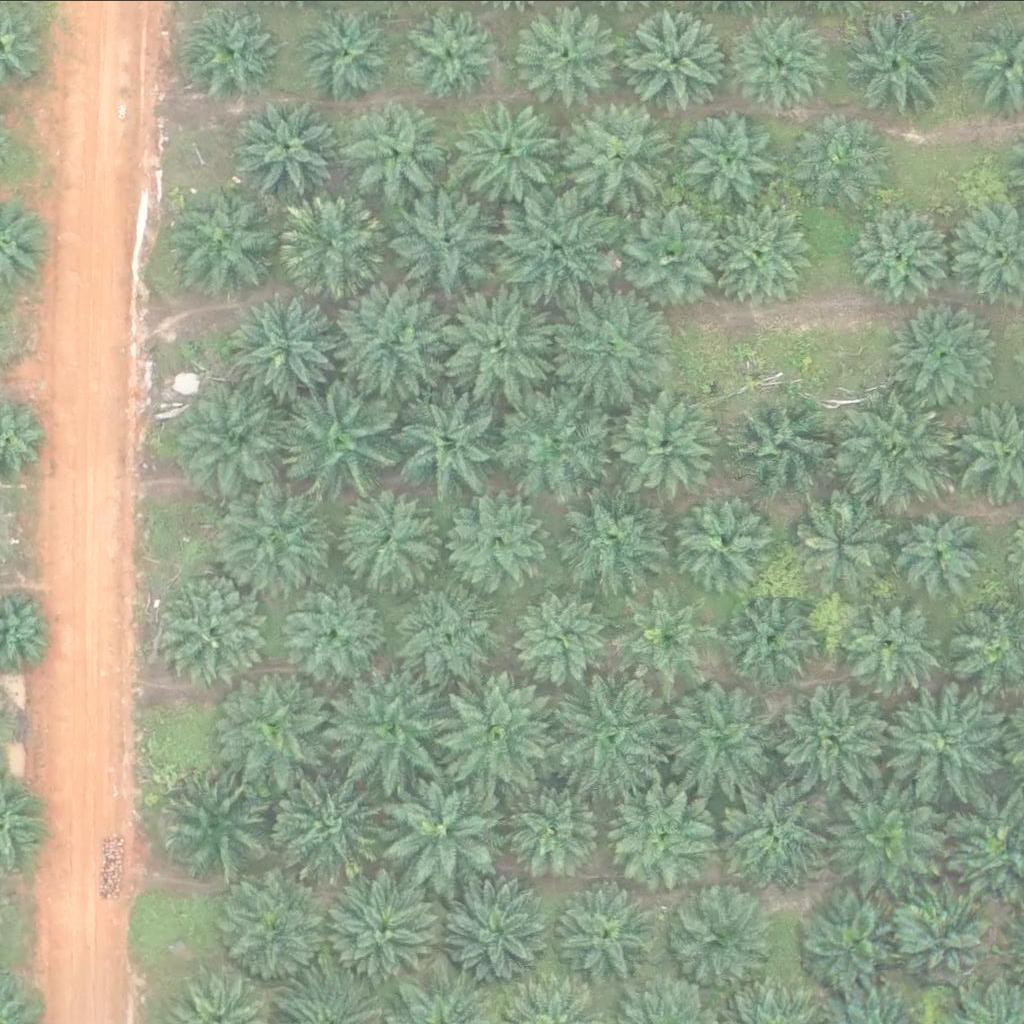Kelapa_Sawit: (887, 297, 1001, 410), (165, 184, 279, 297), (229, 286, 343, 399), (438, 286, 552, 399), (498, 387, 612, 500), (439, 670, 553, 783), (383, 773, 497, 886), (556, 101, 669, 214), (493, 192, 606, 305), (279, 188, 392, 301), (343, 290, 456, 403), (557, 293, 670, 406), (280, 380, 393, 493), (554, 482, 667, 595), (850, 390, 963, 503), (161, 573, 274, 686), (222, 675, 335, 788), (898, 690, 1011, 803), (830, 783, 943, 896), (714, 776, 827, 889), (603, 784, 716, 897), (218, 872, 331, 985), (322, 871, 435, 984), (554, 878, 667, 991), (662, 883, 775, 996), (796, 886, 909, 999), (345, 100, 459, 212), (389, 186, 503, 298), (218, 477, 332, 589), (668, 676, 782, 788), (618, 381, 731, 493), (393, 387, 506, 499), (181, 383, 294, 495), (721, 393, 834, 505), (389, 583, 502, 695), (337, 673, 450, 785), (557, 677, 670, 789), (774, 680, 887, 792), (158, 764, 271, 876), (269, 771, 382, 883), (447, 878, 560, 990), (845, 9, 946, 109), (731, 15, 832, 115), (624, 8, 725, 108), (183, 2, 284, 102), (241, 99, 342, 199), (461, 101, 562, 201), (790, 109, 891, 209), (855, 199, 956, 299), (618, 204, 719, 304), (334, 487, 435, 587), (680, 487, 781, 587), (791, 491, 892, 591), (715, 584, 816, 684), (507, 590, 608, 690), (275, 585, 376, 685), (893, 883, 994, 983), (518, 1, 618, 101), (402, 4, 502, 104), (297, 1, 397, 101), (681, 108, 781, 208), (709, 200, 809, 300), (445, 488, 545, 588), (839, 591, 939, 691), (614, 585, 714, 685), (503, 781, 603, 881), (897, 510, 985, 597)
